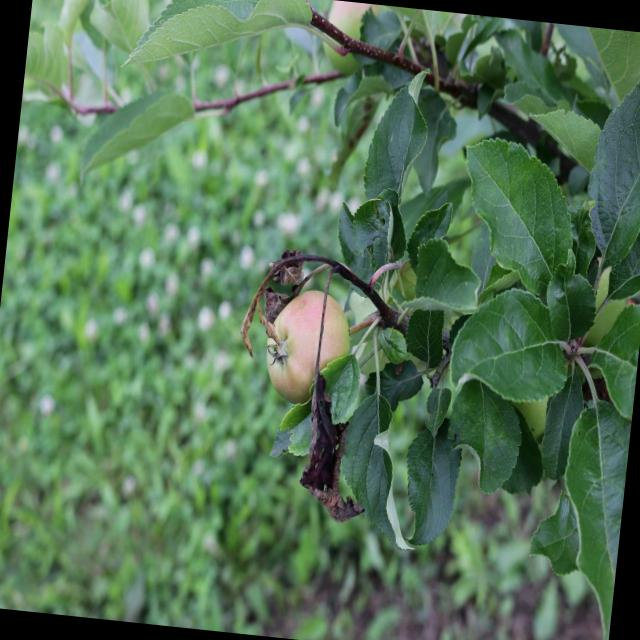-FireBlight-: (229, 244, 392, 522)
